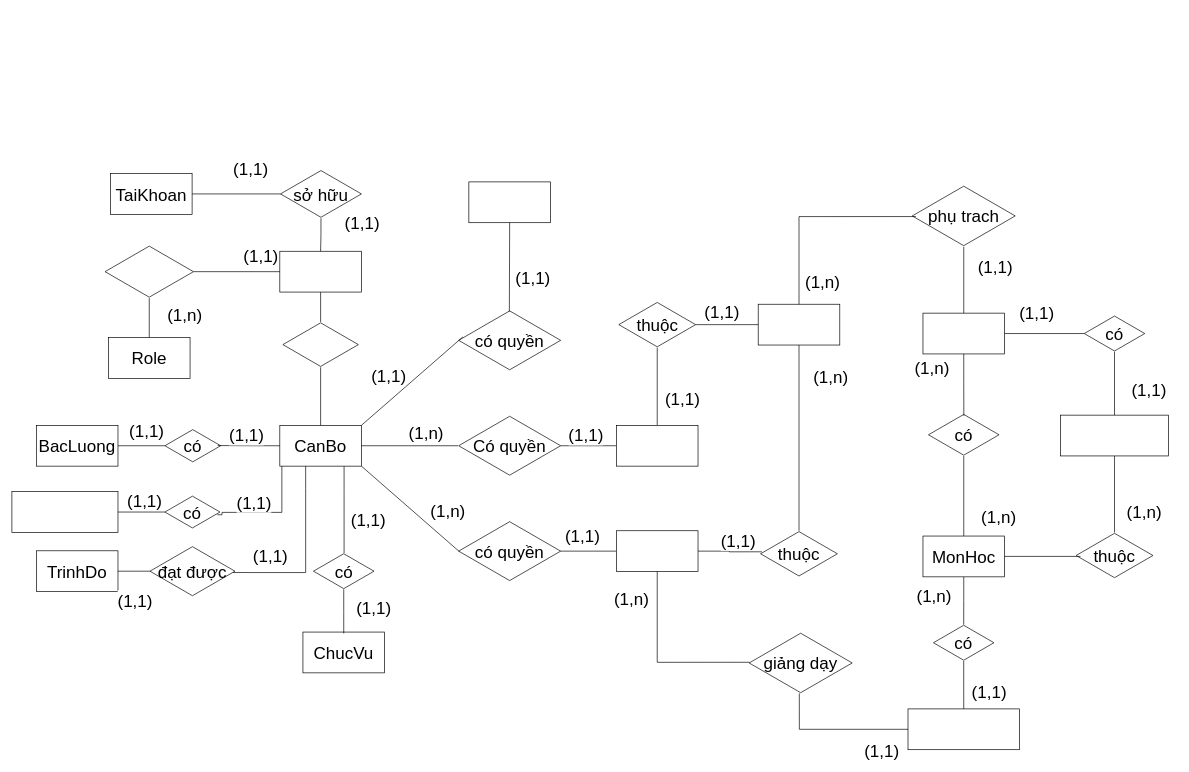
This 1189x772 diagram has some shape labels left out. The centre of each missing label's shape, as x and y in pixels:
"Admin" goes at pixel 509 202.
"BangLuong" goes at pixel 64 511.
"ChuongTrinh" goes at pixel 1114 435.
"Giảng viên" goes at pixel 657 551.
"gán" goes at pixel 320 344.
"gán cho" goes at pixel 148 271.
"Khoa" goes at pixel 799 324.
"LopHocPhan" goes at pixel 963 729.
"Nganh" goes at pixel 963 333.
"Trưởng khoa" goes at pixel 657 445.
"Users" goes at pixel 320 271.
